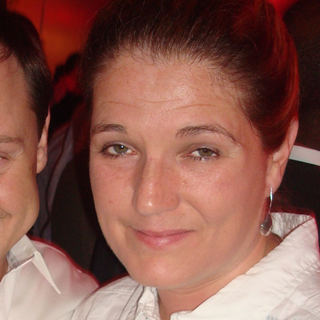eye: (178, 140, 225, 165), (100, 138, 141, 163)
